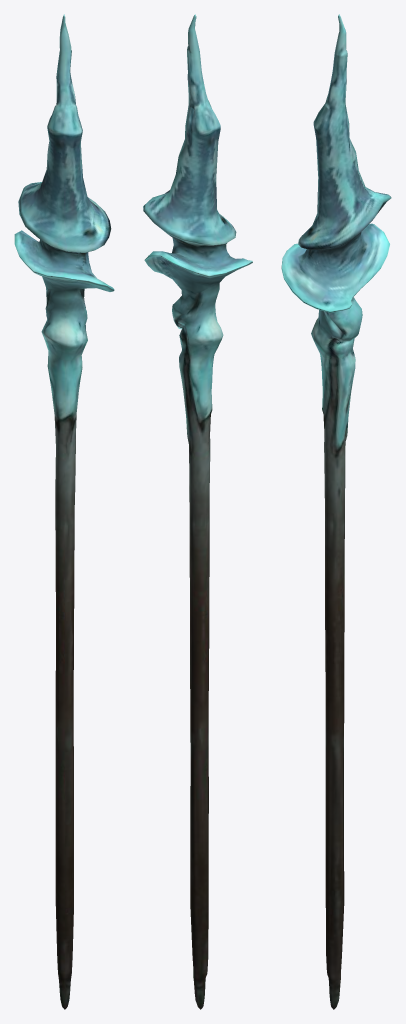
File: weapon-endless-winter.glb
The picture shows the model from 3 angles, left to right: view 1: azimuth 90°, elevation 25°; view 2: azimuth 150°, elevation 25°; view 3: azimuth 330°, elevation 25°; orthographic projection.
Visible parts, largest first — view 1: staff2hS_MDL_q; view 2: staff2hS_MDL_q; view 3: staff2hS_MDL_q.
Part boxes in pixels (x1=…): staff2hS_MDL_q: x1=14, y1=14, x2=114, y2=1009; staff2hS_MDL_q: x1=143, y1=14, x2=252, y2=1009; staff2hS_MDL_q: x1=281, y1=14, x2=391, y2=1009.
Bounding box in the file's own units: 0.2464 × 2.82 × 0.2569.
1 material, 1 textured.
